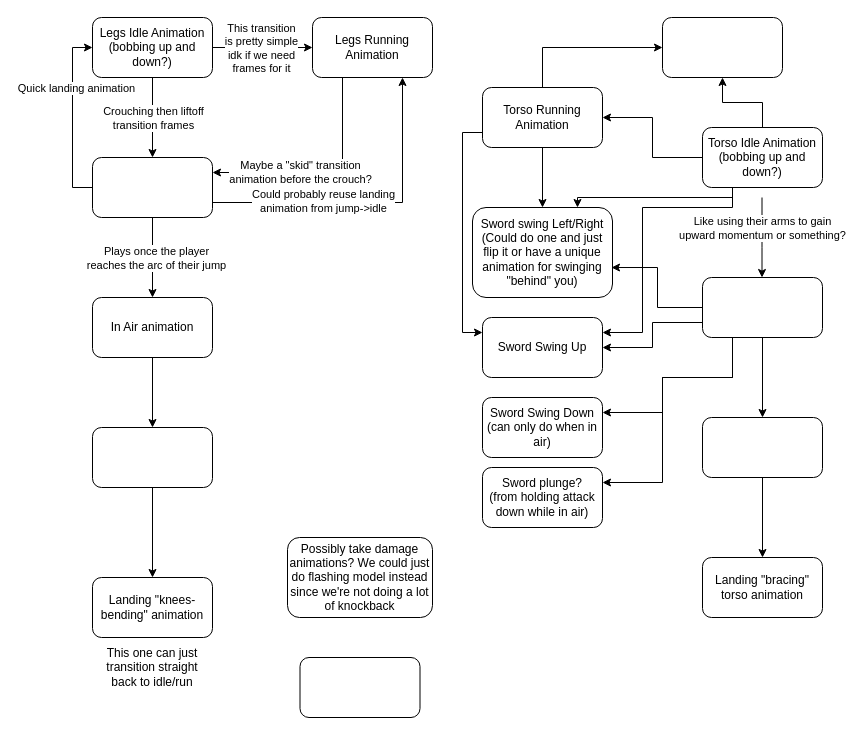
The diagram is 863 pixels wide and 735 high, and some of its shapes have lost their labels. The centre of each missing label's shape, as x and y in pixels:
Charge Special Attack? (Only when on ground): point 722,47
Death animations for both: point 359,687
Falling in air animation: point 152,457
Falling torso animation: point 762,447
Jumping Up Animation: point 152,187
Jumping Up Animation (torso): point 762,307
